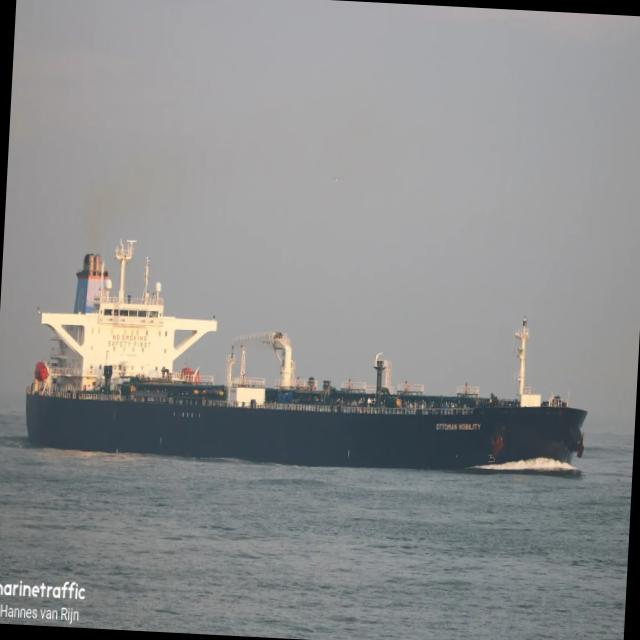Tanker: (26, 254, 586, 470)
